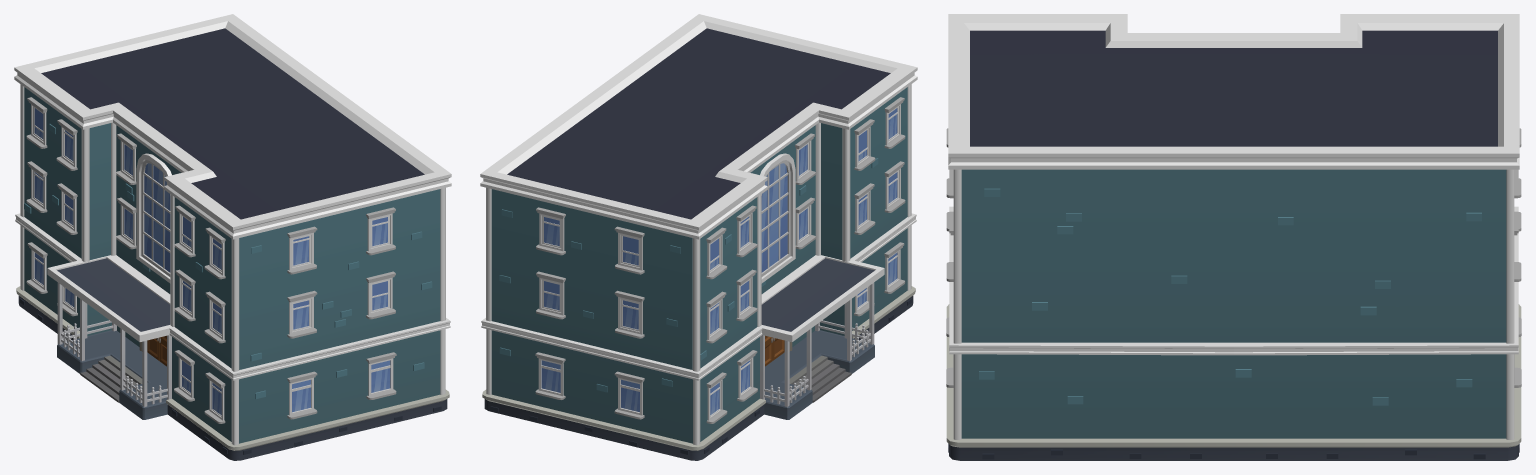
File: Building_5_2_O.fbx
3 renders of one model, left to right at view 1: azimuth 30°, elevation 25°; view 2: azimuth 150°, elevation 25°; view 3: azimuth 270°, elevation 25°, orthographic. The views are drawn at different scales.
Parts seen in each view (by area): view 1: Building_5_2_O; view 2: Building_5_2_O; view 3: Building_5_2_O.
Part boxes in pixels (bbox=[...]): Building_5_2_O: bbox=[14, 14, 451, 460]; Building_5_2_O: bbox=[480, 14, 917, 460]; Building_5_2_O: bbox=[946, 14, 1521, 460].
Bounding box in the file's own units: 1251 × 1126 × 1908.
